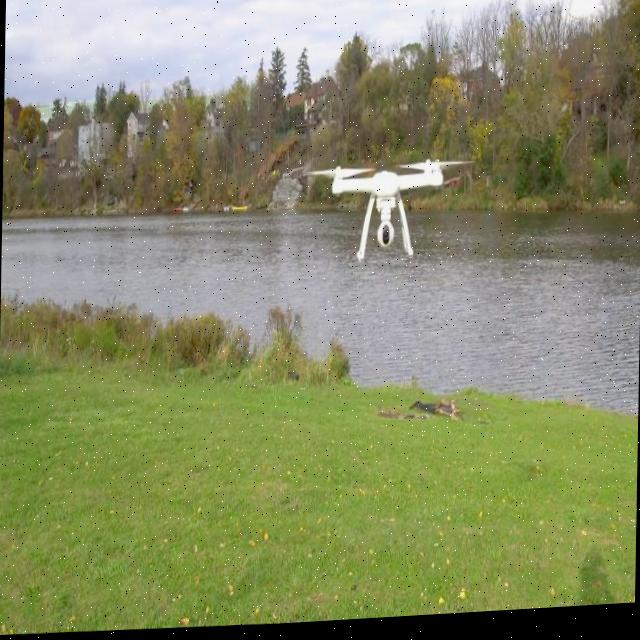drone: (312, 147, 460, 237)
